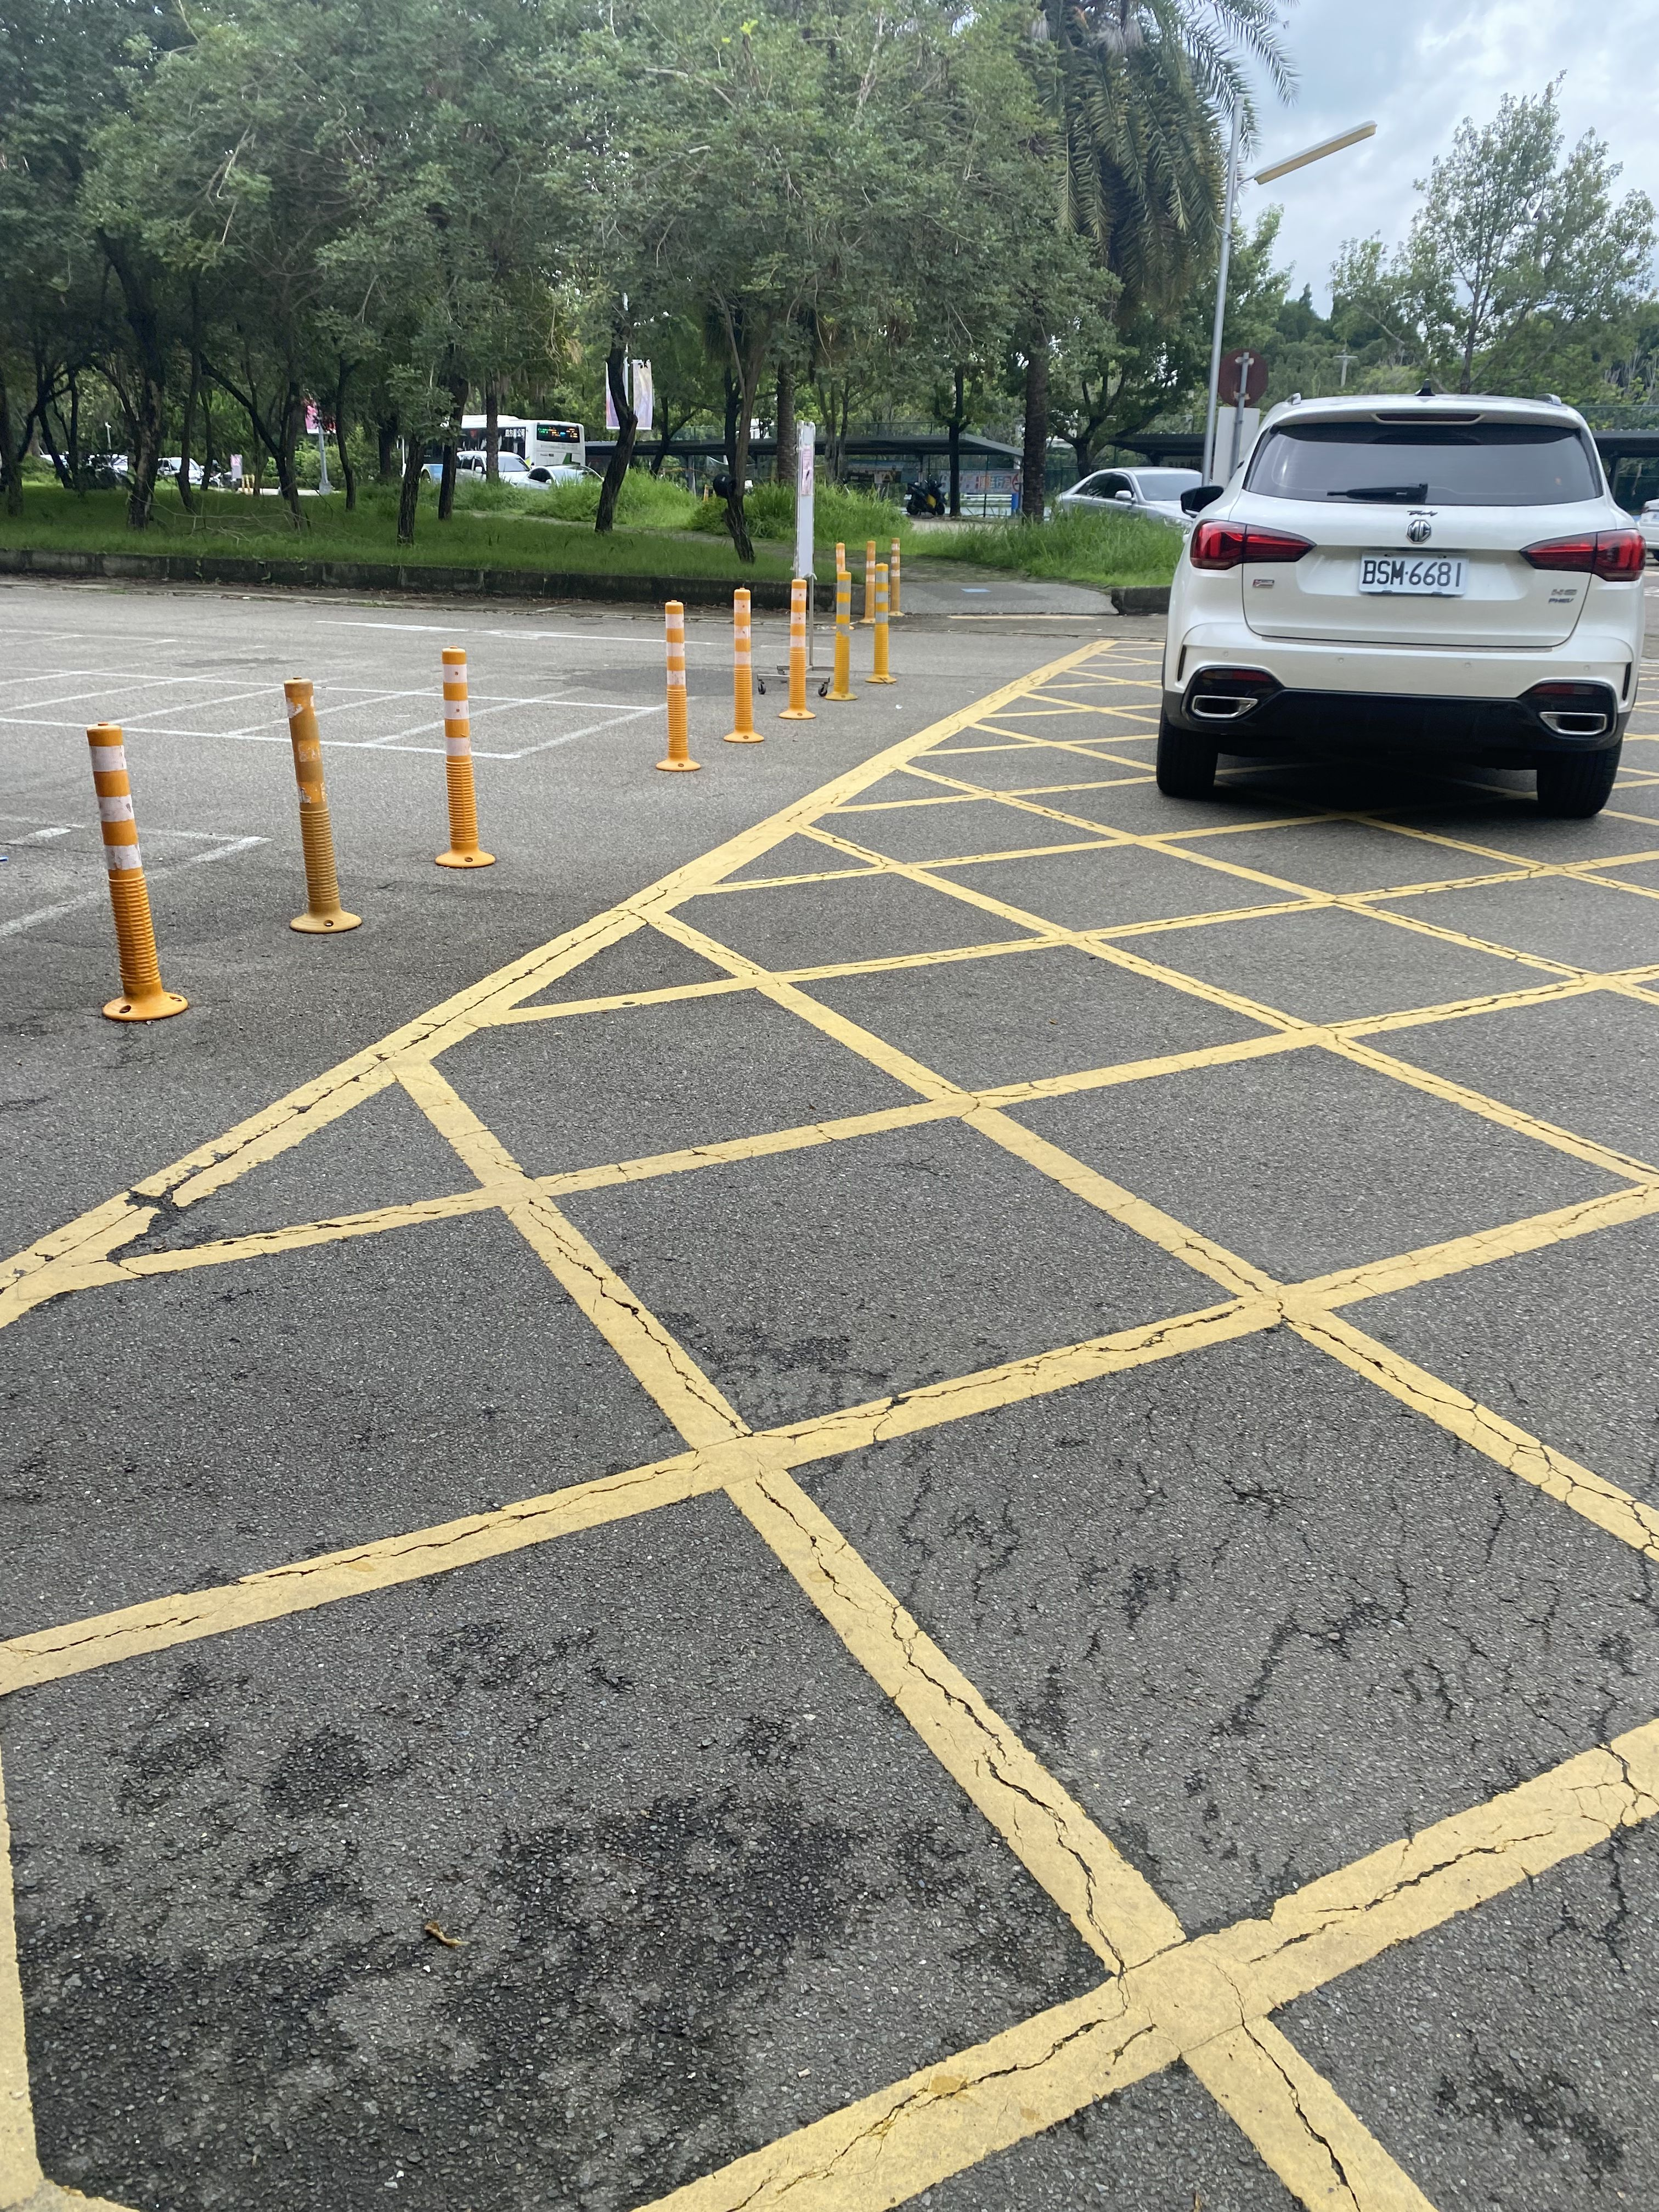sidewalk: (884, 528, 1131, 634)
